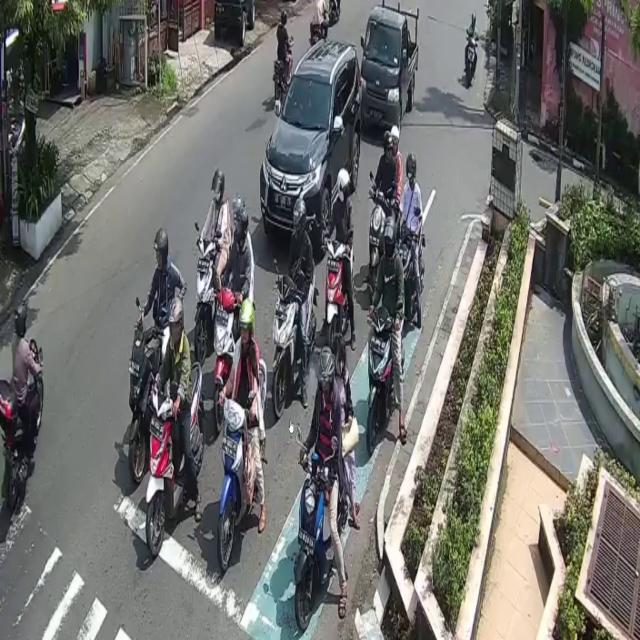bus: (147, 360, 203, 562), (220, 356, 268, 562), (272, 264, 316, 432), (5, 340, 42, 512), (128, 321, 162, 487), (300, 450, 331, 631), (365, 307, 394, 459), (194, 226, 216, 357), (327, 240, 352, 349), (464, 33, 478, 91)
motorcycle: (261, 38, 363, 250), (361, 7, 418, 134)
